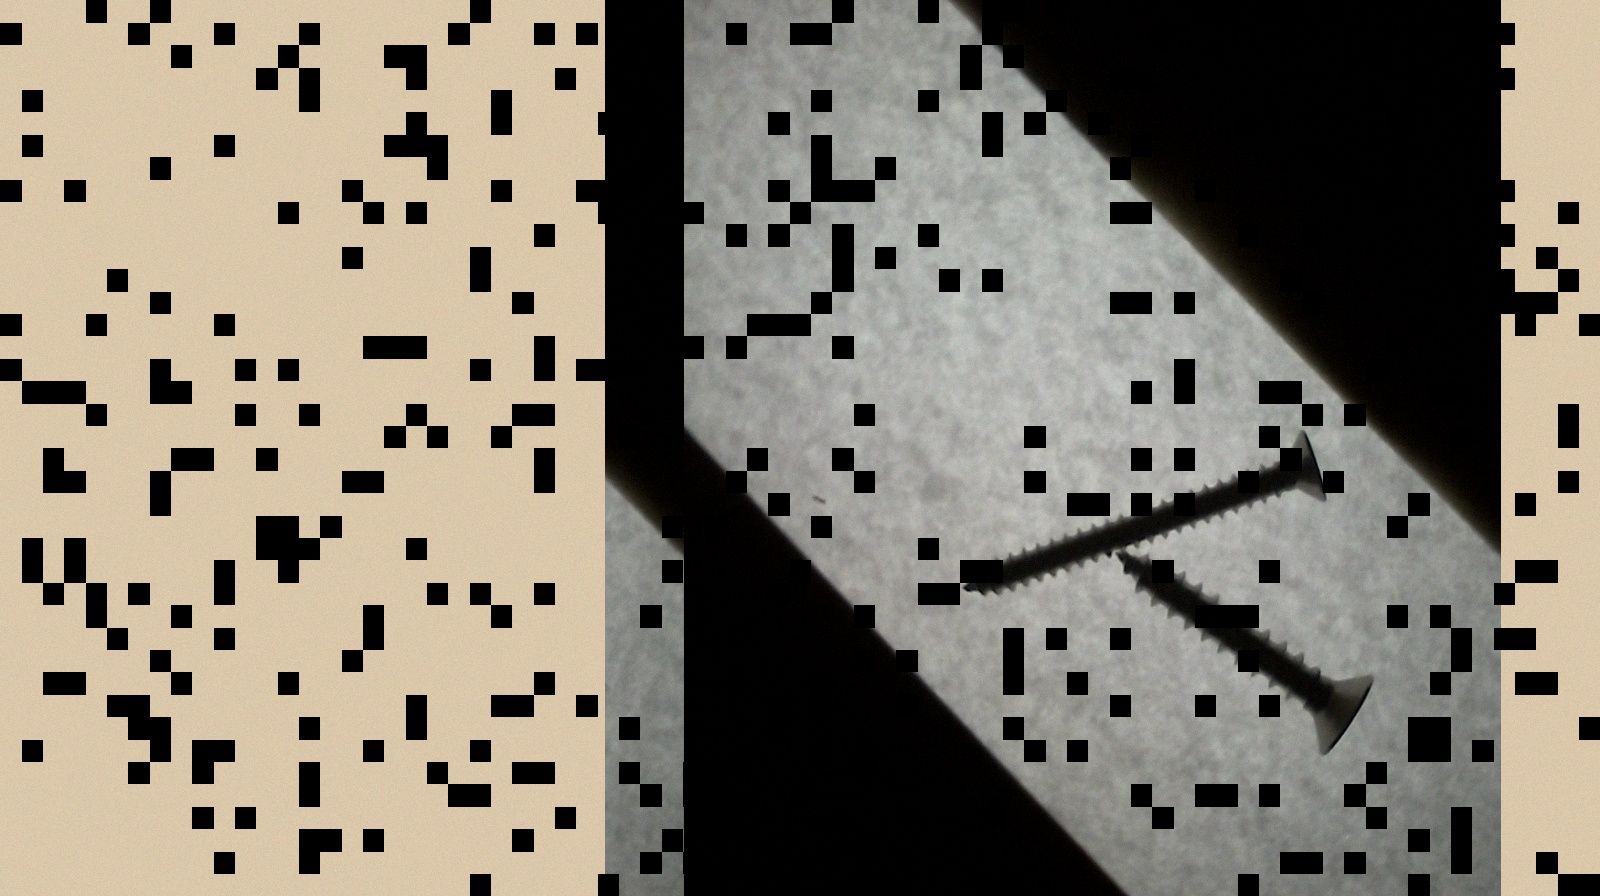S001: (1113, 549, 1377, 757)
S002: (962, 428, 1331, 597)
